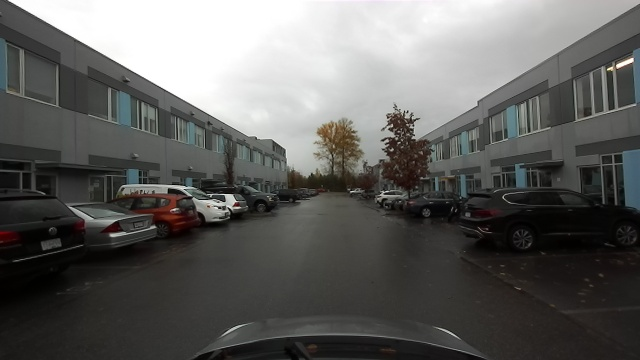car: (460, 187, 637, 250), (1, 189, 85, 271), (86, 208, 158, 252), (155, 192, 196, 235), (401, 190, 455, 219), (199, 197, 233, 224), (253, 187, 279, 213), (230, 191, 248, 217), (376, 190, 400, 207), (282, 188, 297, 203)
